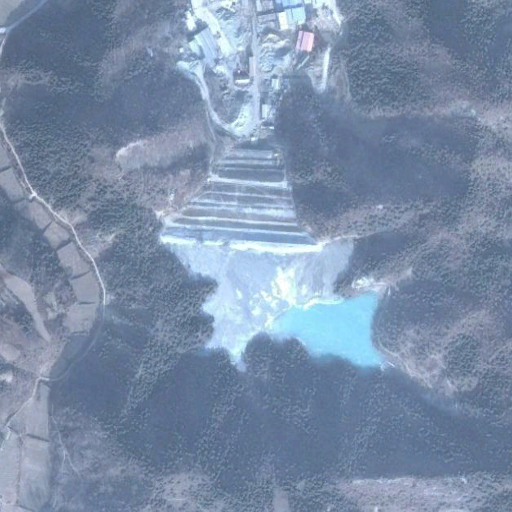tp: (165, 139, 387, 370)
